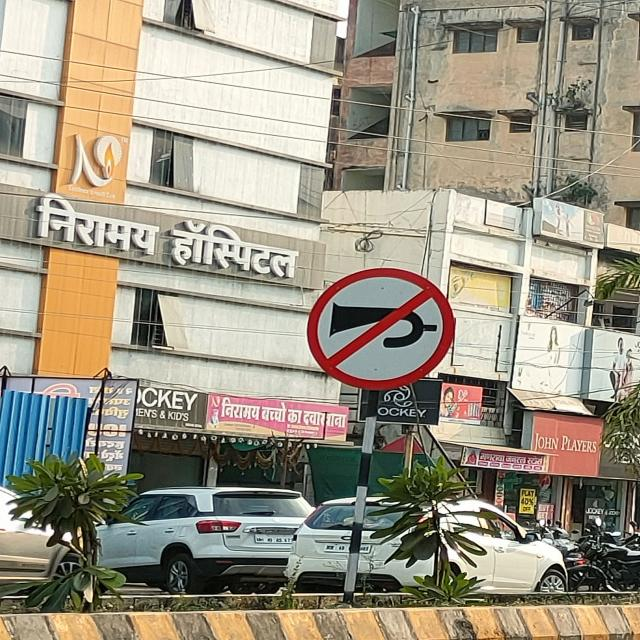HORN_PROHIBITED: (305, 267, 457, 391)
